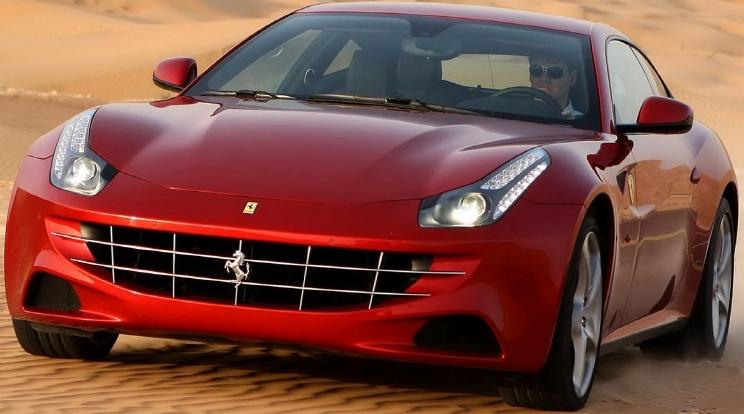front_view: (34, 108, 568, 366)
headlight: (415, 142, 565, 254)
side_glass: (599, 36, 700, 139)
